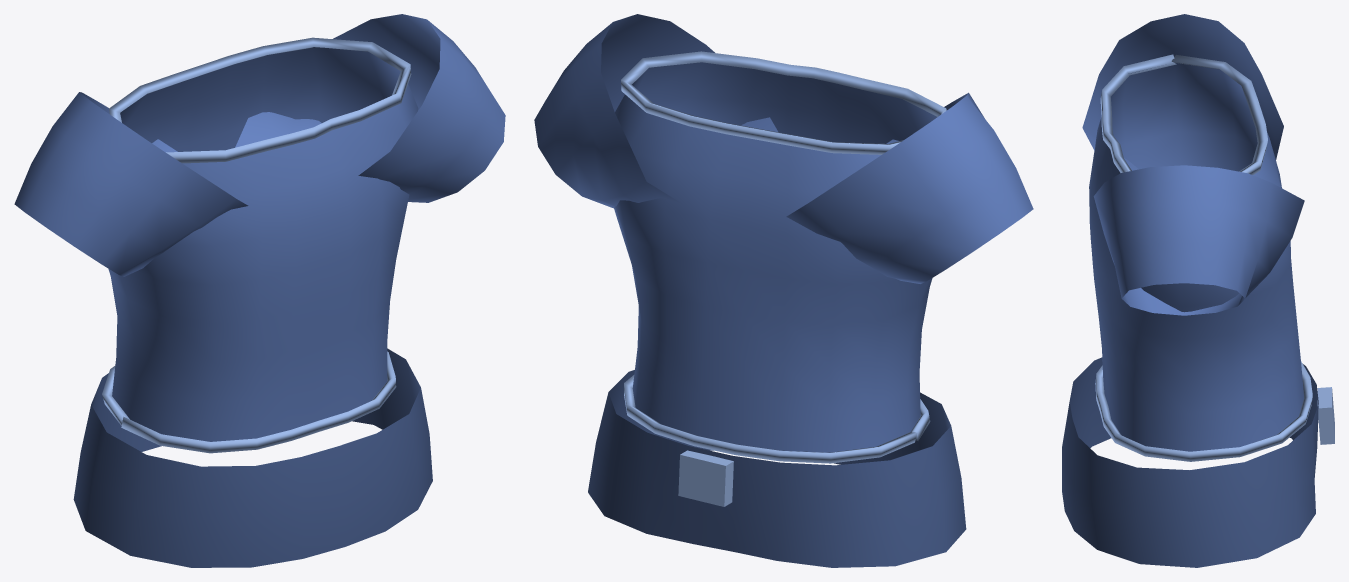
File: spectre_robe.glb
The picture shows the model from 3 angles, left to right: view 1: azimuth 30°, elevation 25°; view 2: azimuth 150°, elevation 25°; view 3: azimuth 270°, elevation 25°; orthographic projection. The views are drawn at different scales.
Parts seen in each view (by area): view 1: spectre_robe_chest; view 2: spectre_robe_chest; view 3: spectre_robe_chest.
Part boxes in pixels (box(x1,y1,x2,y2)): spectre_robe_chest: box(14, 14, 505, 567); spectre_robe_chest: box(534, 14, 1033, 567); spectre_robe_chest: box(1062, 14, 1334, 567).
Bounding box in the file's own units: 0.6233 × 0.5645 × 0.3387.
